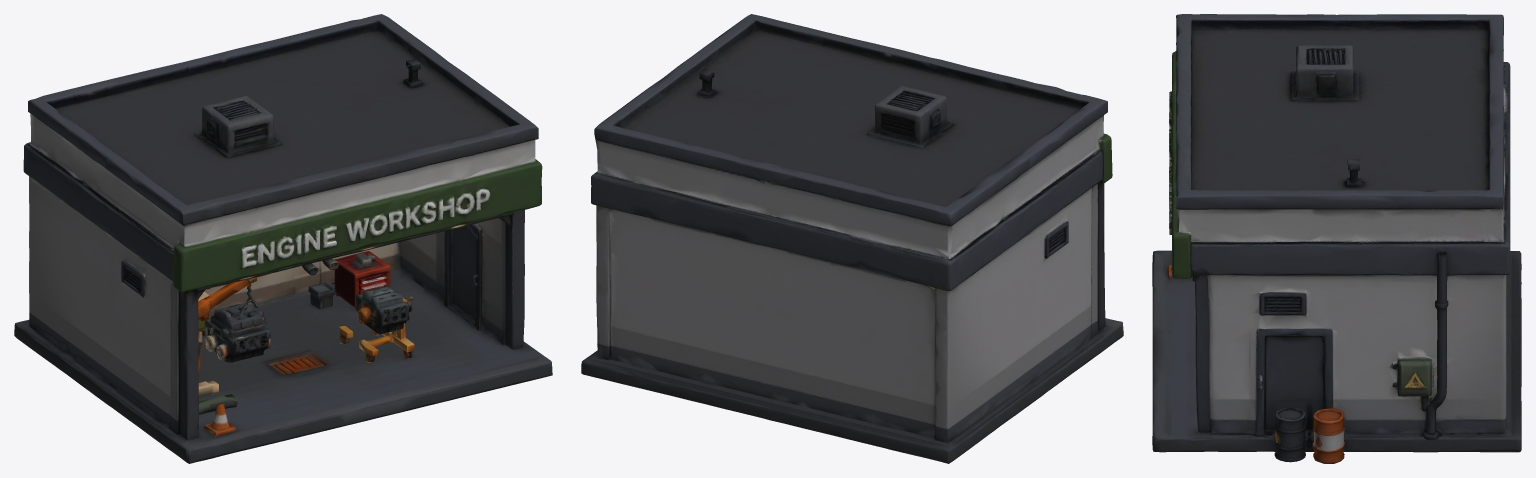
File: engine_workshop_1k_real.glb
The picture shows the model from 3 angles, left to right: view 1: azimuth 30°, elevation 25°; view 2: azimuth 150°, elevation 25°; view 3: azimuth 270°, elevation 25°; orthographic projection. The views are drawn at different scales.
Visible parts, largest first — view 1: tripo_node_31395b39-fca4-47d0-9743-fb5e9a7aed8a; view 2: tripo_node_31395b39-fca4-47d0-9743-fb5e9a7aed8a; view 3: tripo_node_31395b39-fca4-47d0-9743-fb5e9a7aed8a.
Part boxes in pixels (<box>): tripo_node_31395b39-fca4-47d0-9743-fb5e9a7aed8a: <box>14,14,552,463</box>; tripo_node_31395b39-fca4-47d0-9743-fb5e9a7aed8a: <box>581,14,1123,463</box>; tripo_node_31395b39-fca4-47d0-9743-fb5e9a7aed8a: <box>1152,14,1521,463</box>.
Size of the model in its own units: 1 by 0.637 by 0.7704.
Materials: 1 (1 with a texture image).
